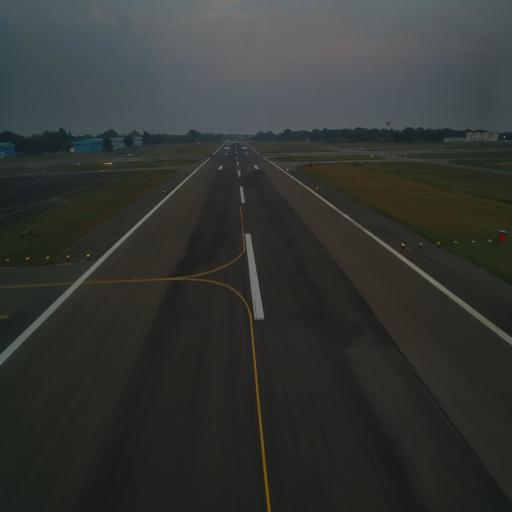on: (436, 240, 442, 249), (25, 254, 30, 263), (6, 257, 12, 264), (469, 238, 475, 245), (488, 237, 493, 245), (86, 252, 91, 259), (46, 254, 50, 262), (66, 252, 70, 260), (401, 241, 405, 248), (454, 239, 458, 246), (419, 240, 423, 246)
